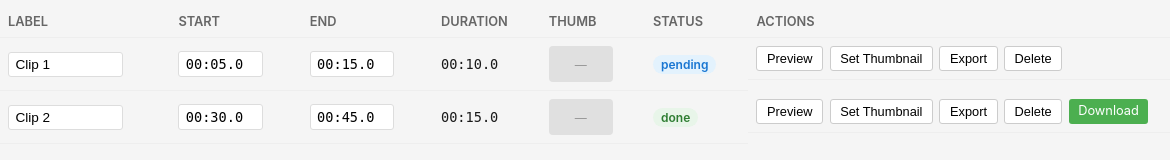
ClipList › download link changes to Re-download after click
Click the link "Download" at (1108, 111), box [1069,98,1148,124]
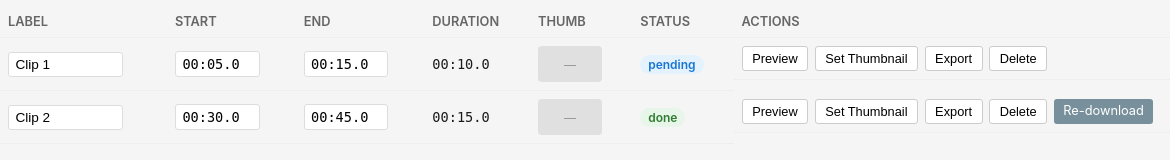
Expected: the link "Re-download" is shown, [1054,98,1154,124]
